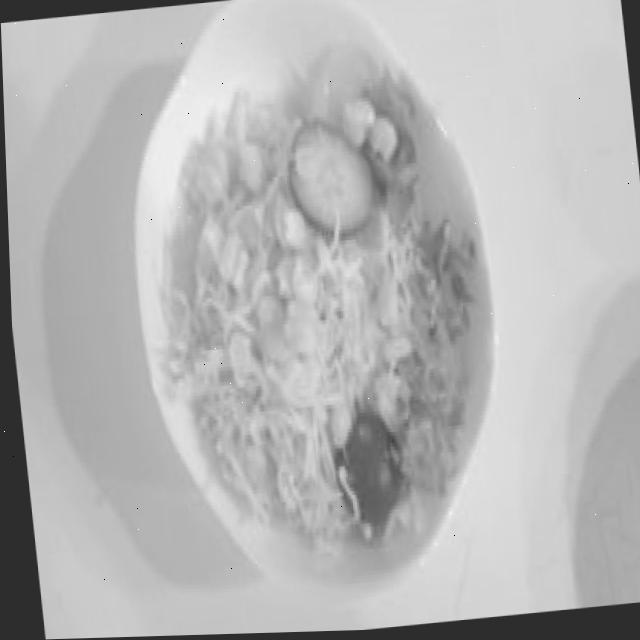蔬菜料理: (135, 25, 517, 578)
